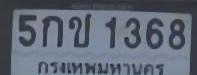1: (104, 15, 115, 48)
3: (123, 17, 140, 48)
5: (18, 14, 36, 46)
6: (145, 17, 162, 48)
8: (168, 18, 184, 49)
A01: (41, 15, 62, 46)
A10: (68, 13, 90, 47)
BKK: (34, 58, 168, 75)
